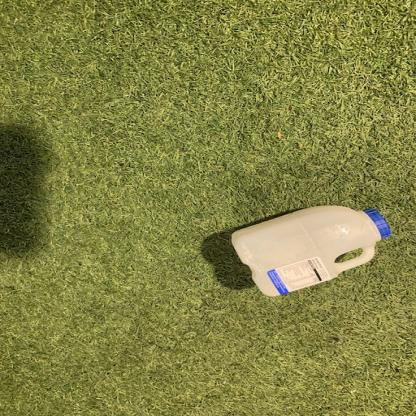trash: (228, 206, 390, 298)
